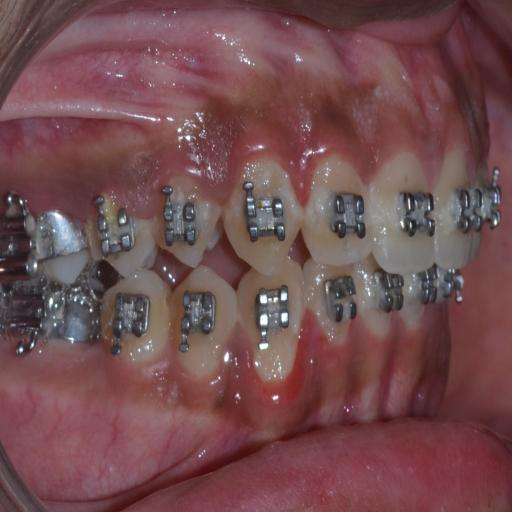correct_brace: (173, 268, 237, 372), (157, 178, 222, 268), (243, 178, 288, 248), (178, 280, 216, 360), (396, 176, 434, 252), (110, 289, 152, 354), (252, 282, 292, 350), (329, 184, 366, 245), (323, 275, 355, 325)
incorrect_brace: (309, 159, 371, 266), (310, 262, 357, 346), (163, 194, 206, 258)
